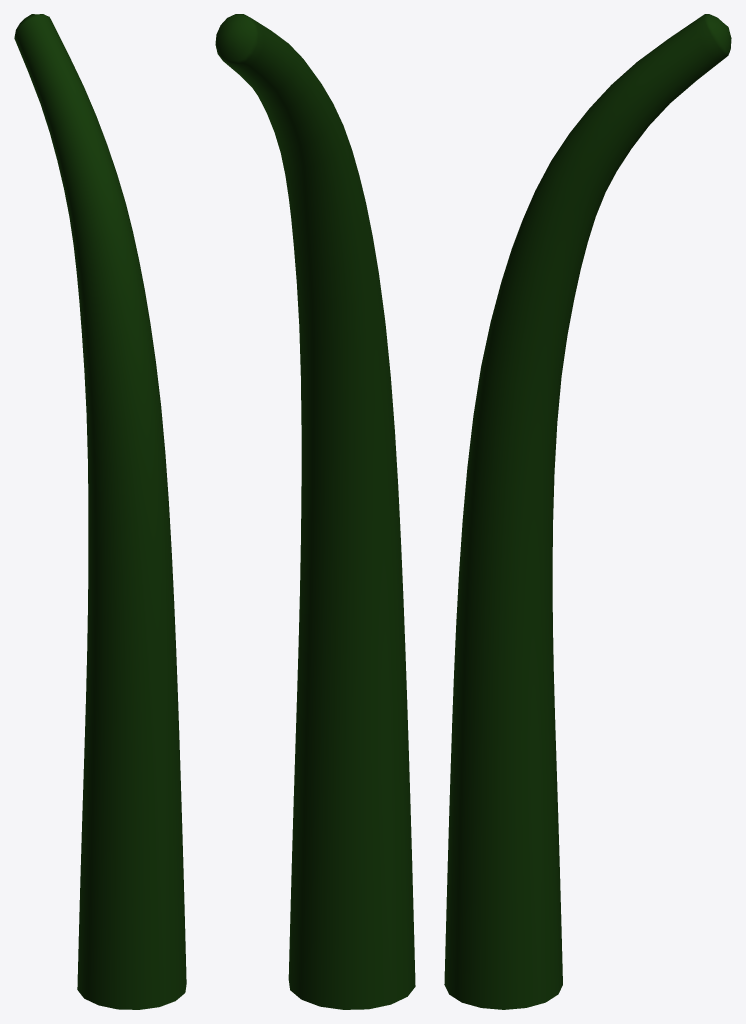
The model's file is palm_tree1.fbx.
3 views of the same model, side by side, from view 1: azimuth 30°, elevation 25°; view 2: azimuth 150°, elevation 25°; view 3: azimuth 270°, elevation 25° (orthographic). The views are drawn at different scales.
Visible parts, largest first — view 1: trunk; view 2: trunk; view 3: trunk.
Part boxes in pixels (left/top/right/bottom): trunk: left=14, top=14, right=186, bottom=1009; trunk: left=215, top=14, right=415, bottom=1009; trunk: left=444, top=14, right=731, bottom=1009.
Bounding box in the file's own units: 1.56 × 14.07 × 3.78.
